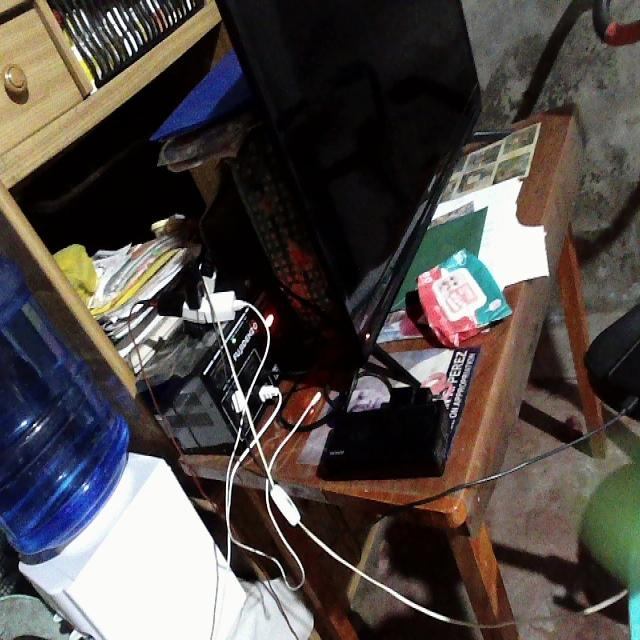-: (141, 244, 256, 332)
